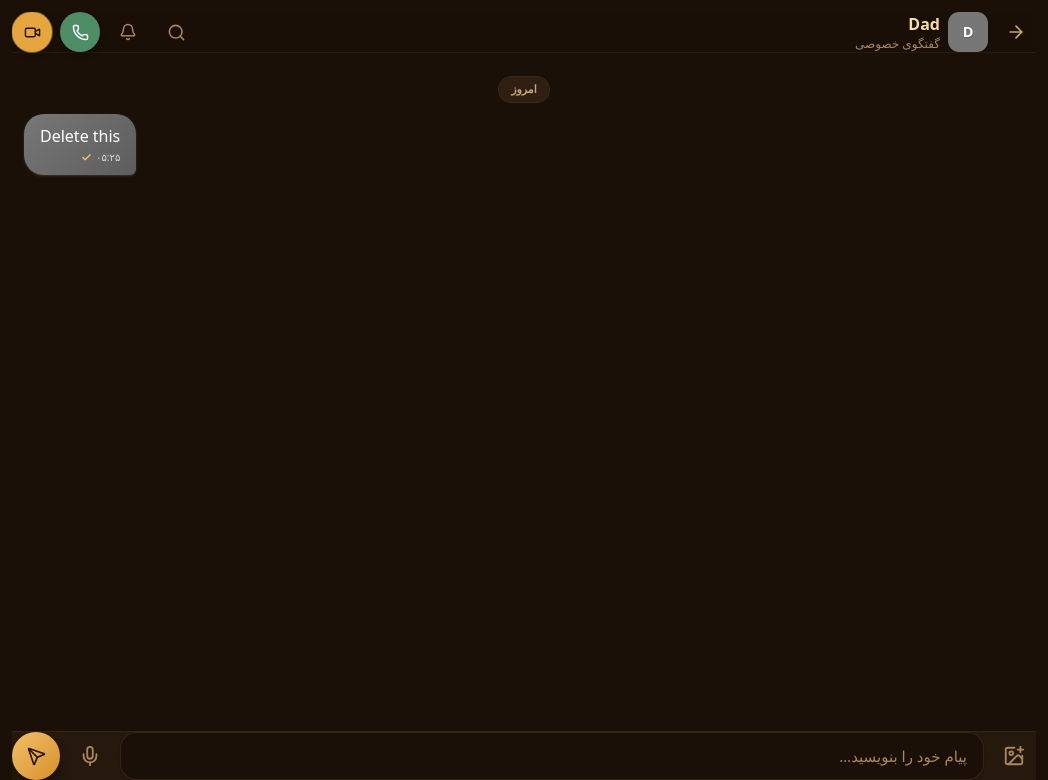
Test: failed message deletion is reported rather than becoming an unhandled rejection
The image size is (1048, 780).
Click the text "Delete this".
click(80, 136)  # box [40, 124, 120, 148]
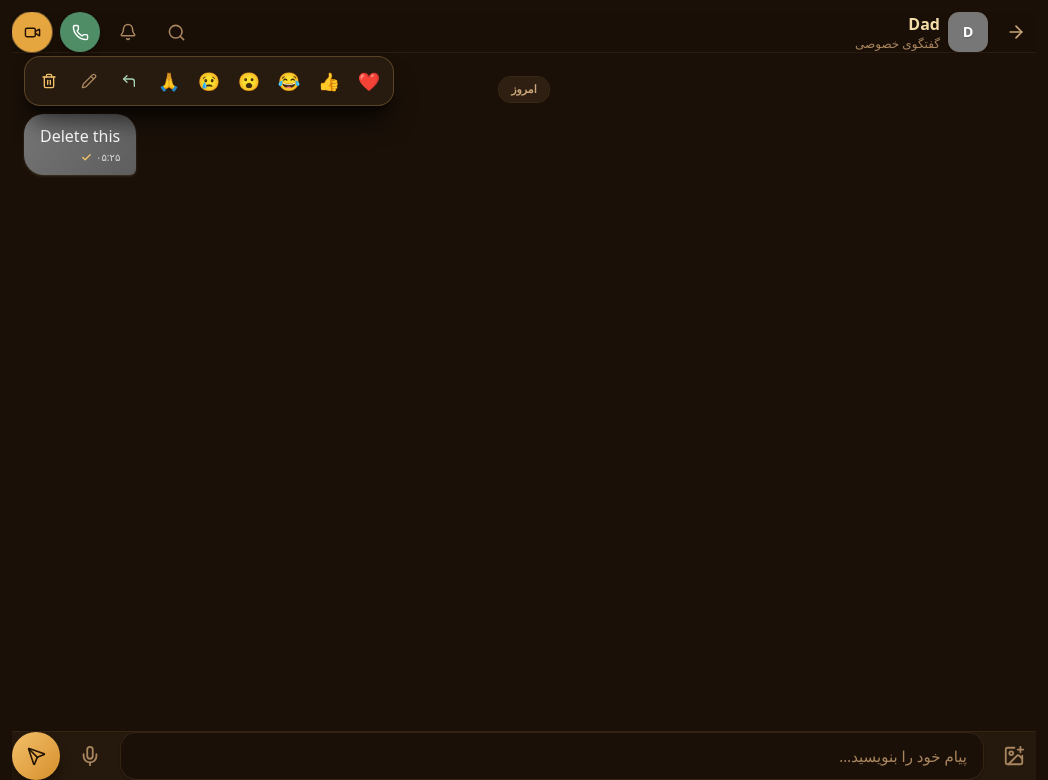
Click the button named "حذف".
click(49, 80)  # box [31, 62, 67, 98]
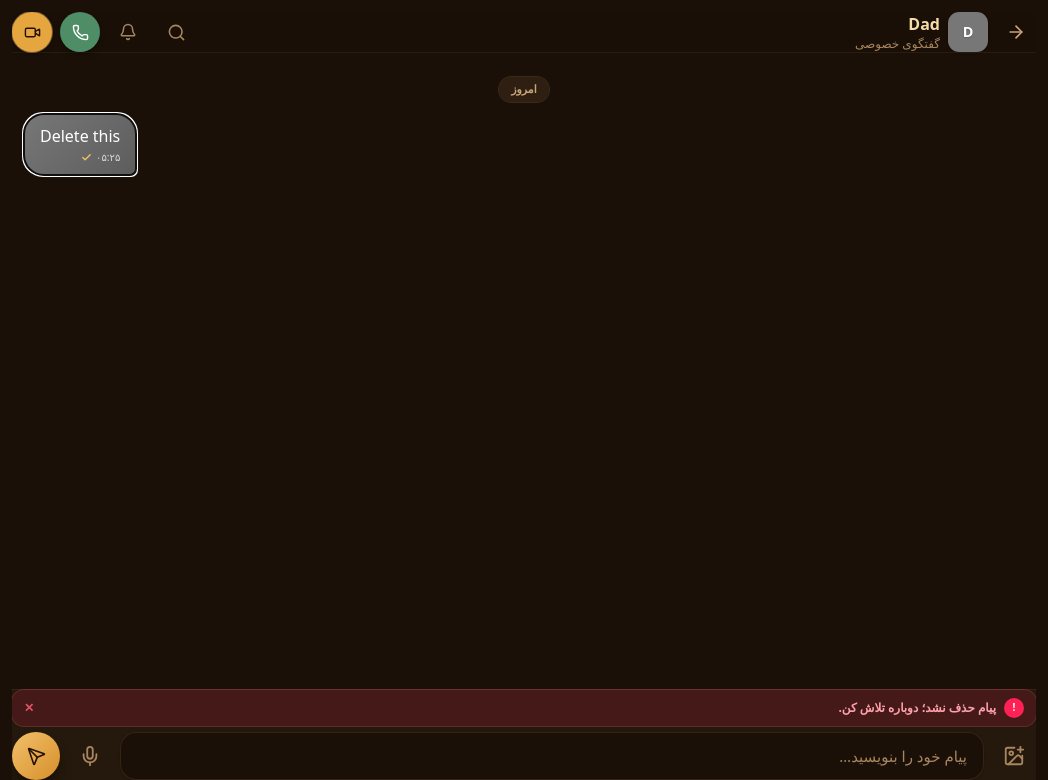
Check: the text "Delete this" is shown, box [40, 124, 120, 148]
Check: the text "پیام حذف نشد؛ دوباره تلاش کن." is shown, box [838, 698, 996, 716]
